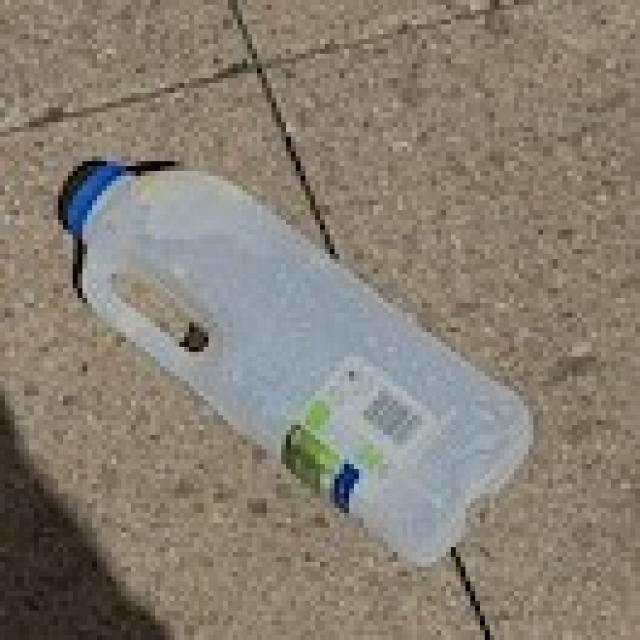HDPE Plastic: (54, 154, 536, 570)
